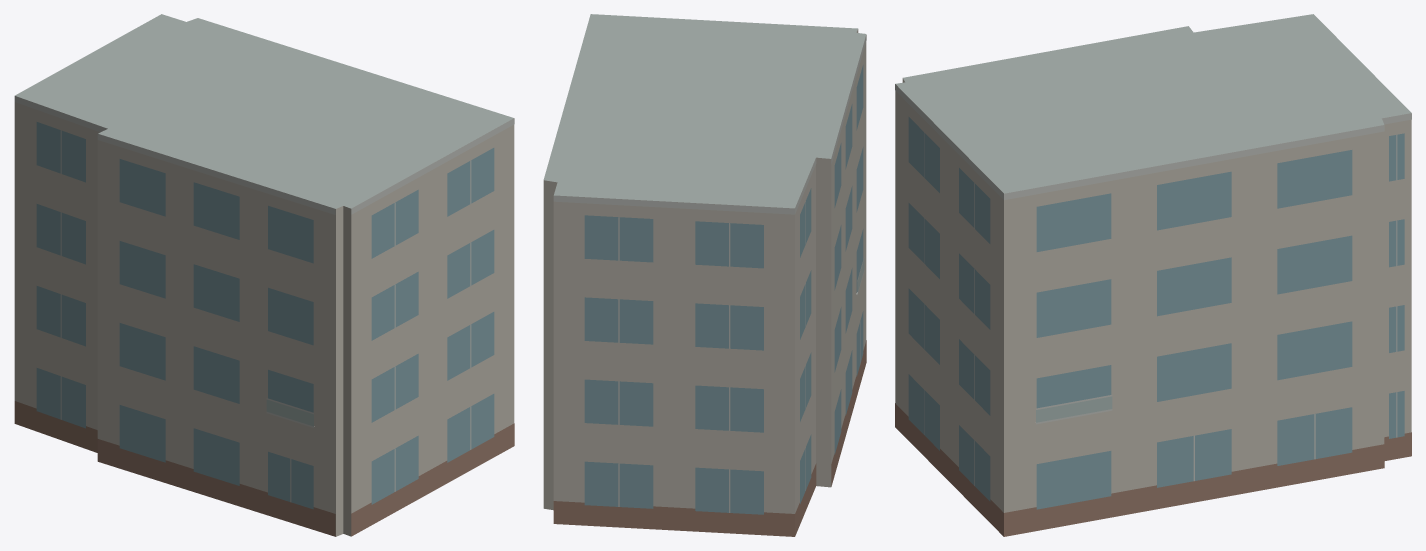
Rendered from survey-upis-32593204.glb.
3 views of the same model, side by side, from view 1: azimuth 30°, elevation 25°; view 2: azimuth 150°, elevation 25°; view 3: azimuth 270°, elevation 25° (orthographic). The views are drawn at different scales.
Visible parts, largest first — view 1: survey-upis-32593204.tmp; view 2: survey-upis-32593204.tmp; view 3: survey-upis-32593204.tmp.
Part boxes in pixels (<box>): survey-upis-32593204.tmp: <box>14,14,514,536</box>; survey-upis-32593204.tmp: <box>543,14,866,536</box>; survey-upis-32593204.tmp: <box>895,14,1411,536</box>.
Bounding box in the file's own units: 14.38 × 12.8 × 17.47.
